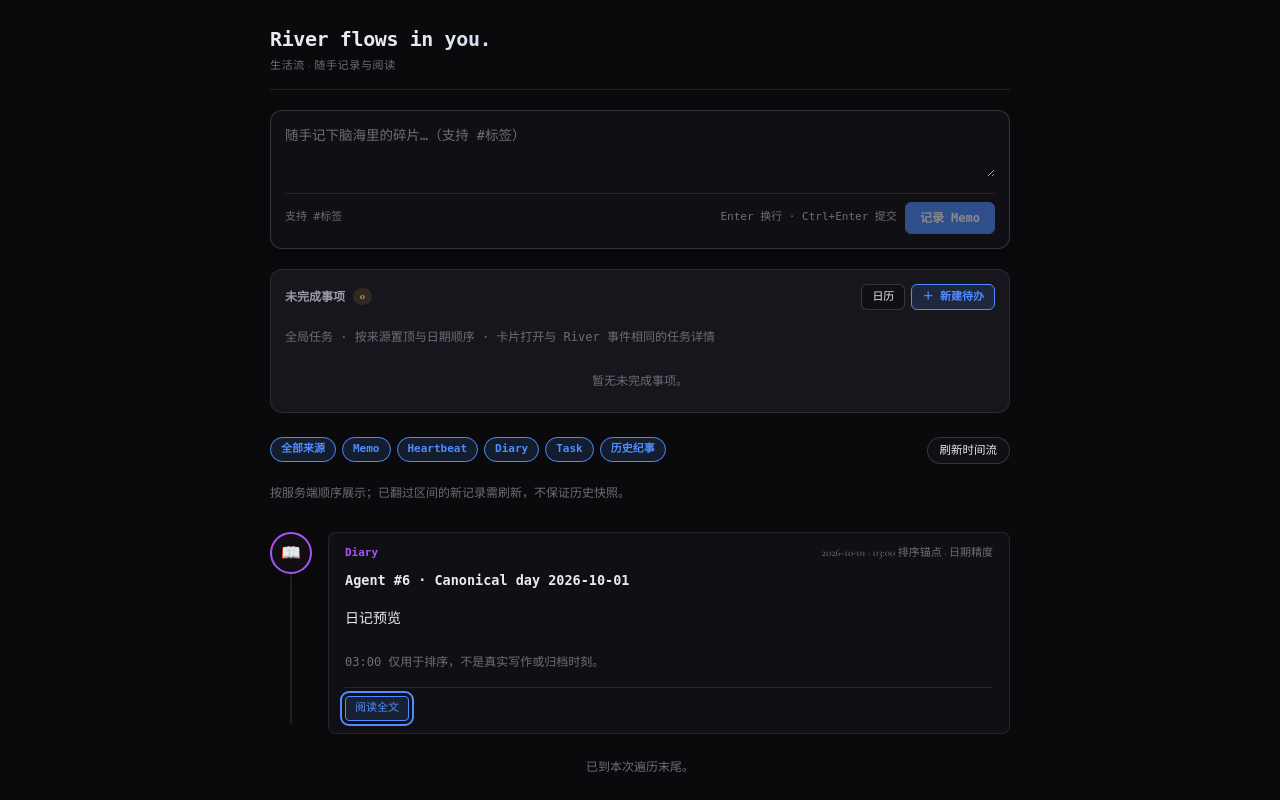
Test: River CP1 source reading › reads exact canonical target and restores focus/stream while isolating the background and trapping focus
Click the button "阅读全文".
click(377, 708)  # box [345,696,409,721]
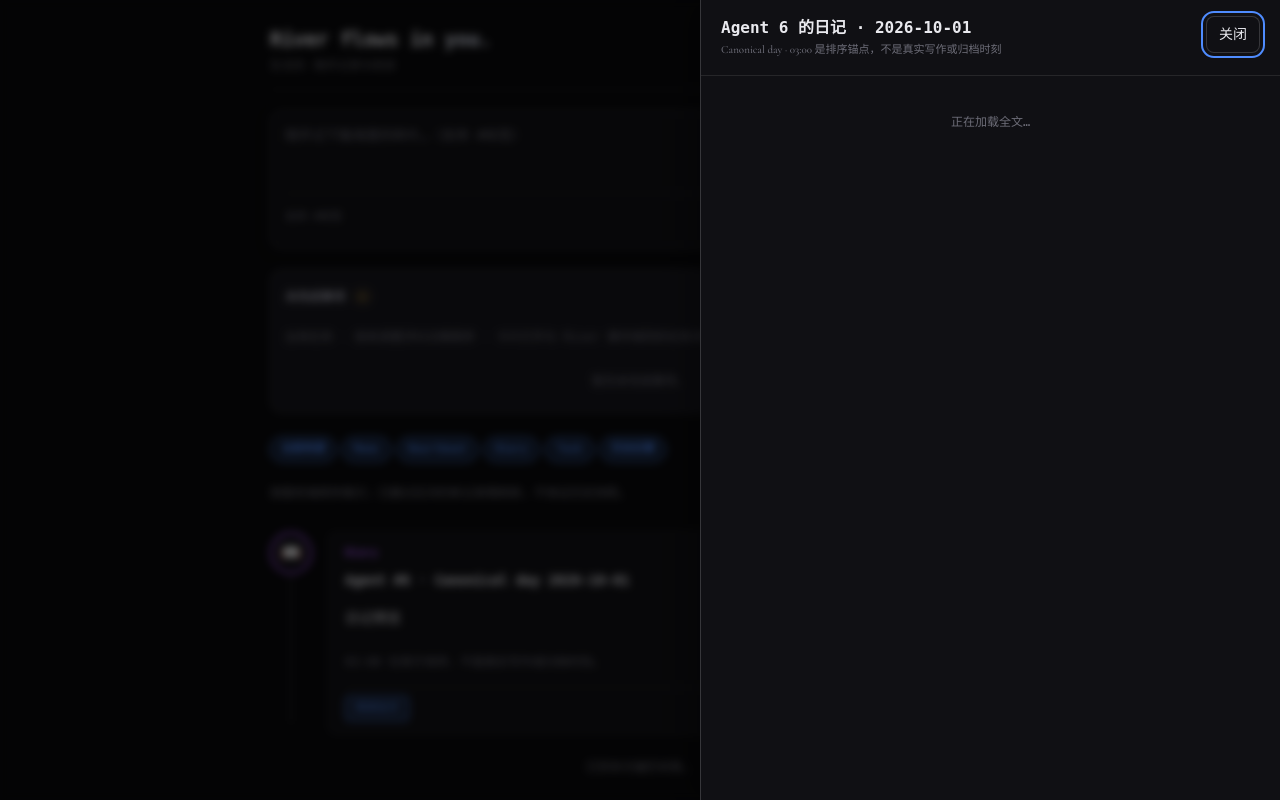
Check: the text "Canonical day · 03:00 是排序锚点，不是真实写作或归档时刻" is shown, box [721,42,1002,58]
Press Tab
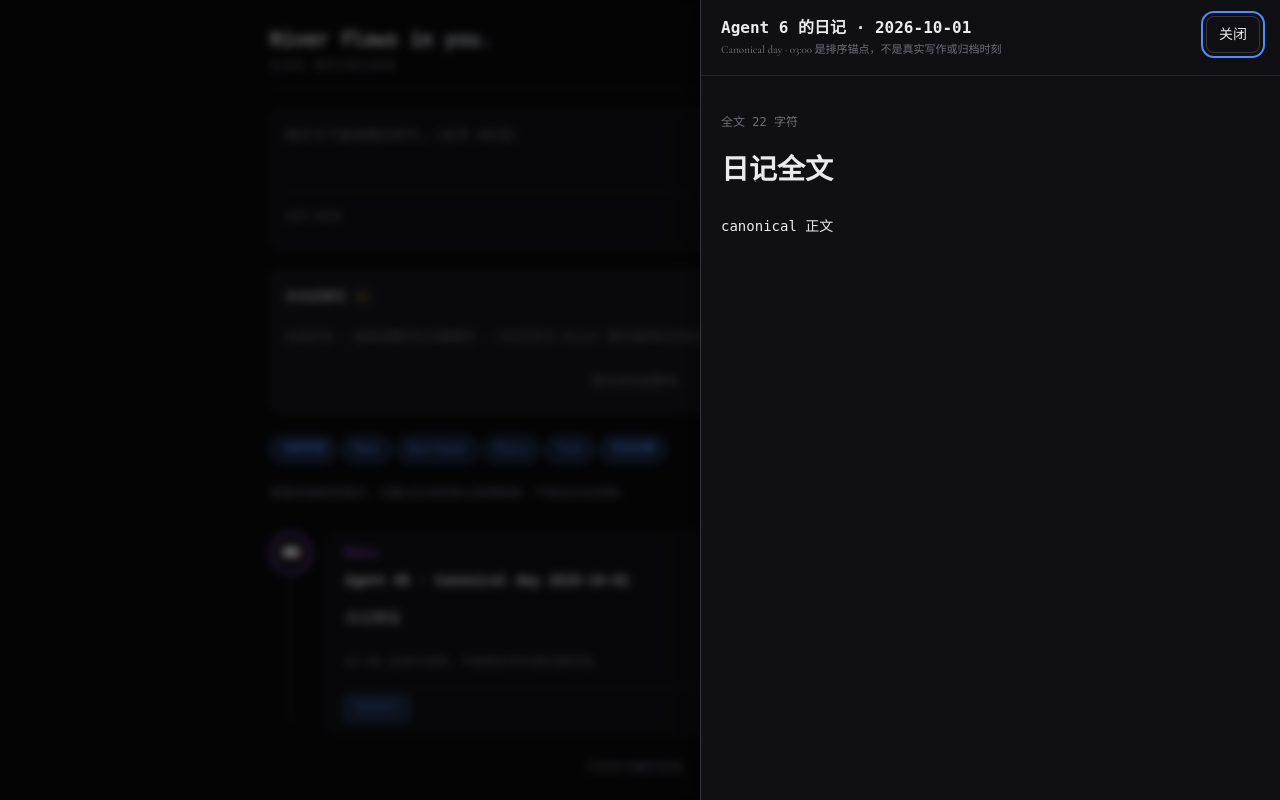
Check: the heading "日记全文" is shown, box [721,153,833,186]
Check: the text "canonical 正文" is shown, box [721,218,833,234]
Press Escape
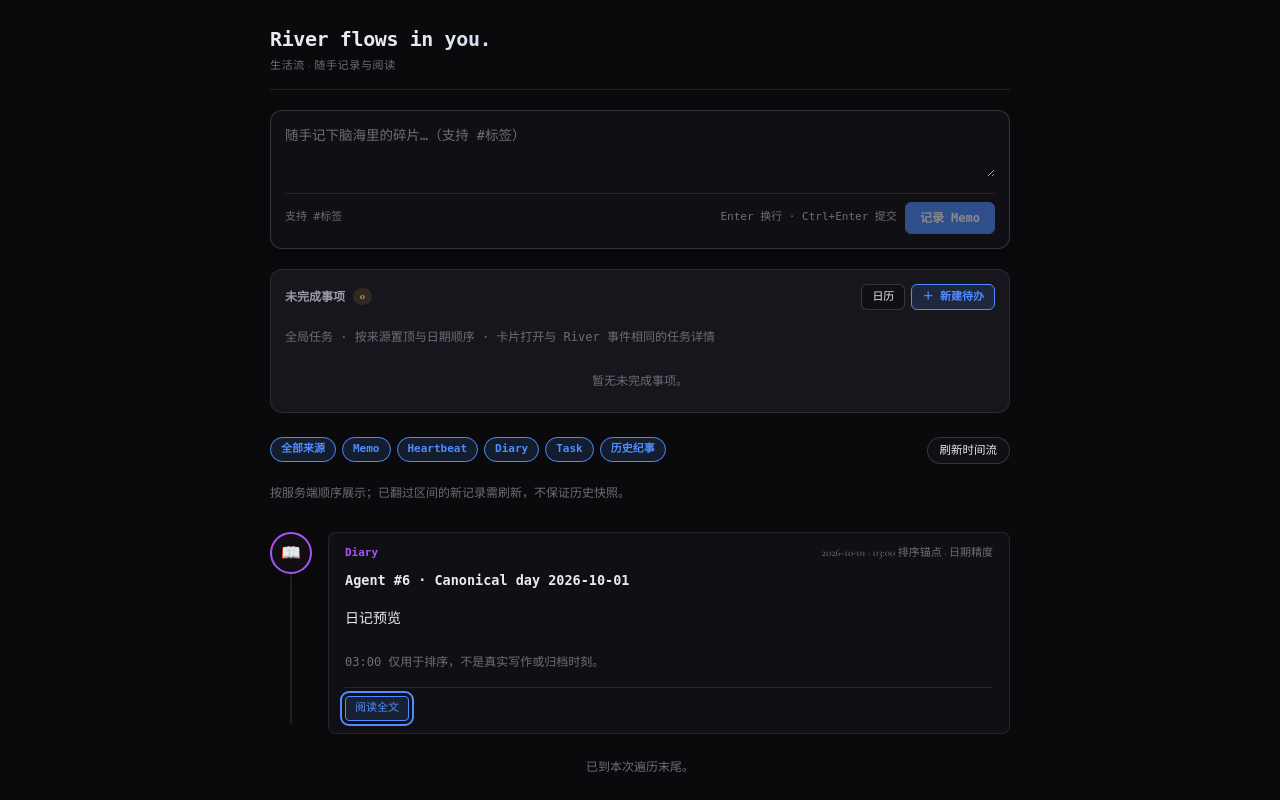
Check: the text "日记预览" is shown, box [345,610,401,626]
Check: the dialog is gone
